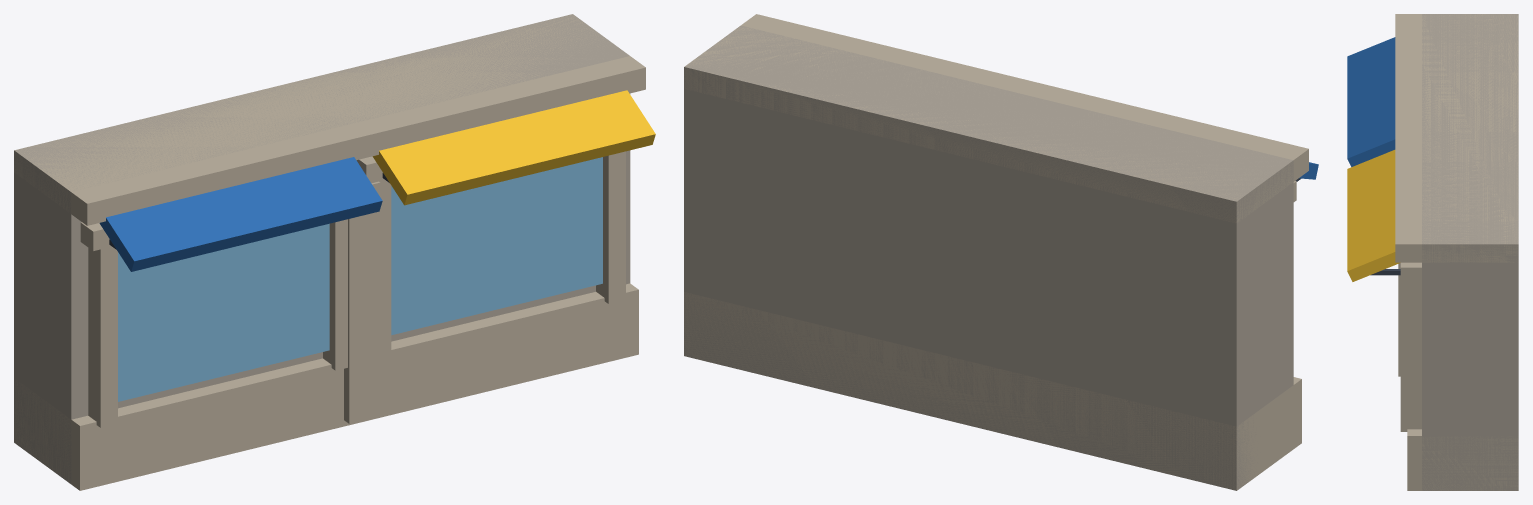
Rendered from cittaTortoraBaseB.glb.
3 views of the same model, side by side, from view 1: azimuth 30°, elevation 25°; view 2: azimuth 150°, elevation 25°; view 3: azimuth 270°, elevation 25° (orthographic). The views are drawn at different scales.
Visible parts, largest first — view 1: cittaTortoraBaseB_stone, cittaTortoraBaseB_glass, cittaTortoraBaseB_cittaTortora, cittaTortoraBaseB_yellow, cittaTortoraBaseB_blue; view 2: cittaTortoraBaseB_cittaTortora, cittaTortoraBaseB_stone; view 3: cittaTortoraBaseB_cittaTortora, cittaTortoraBaseB_stone, cittaTortoraBaseB_yellow, cittaTortoraBaseB_blue.
Part boxes in pixels (x1=…): cittaTortoraBaseB_stone: x1=14, y1=14, x2=645, y2=490; cittaTortoraBaseB_glass: x1=118, y1=157, x2=602, y2=401; cittaTortoraBaseB_cittaTortora: x1=14, y1=14, x2=630, y2=483; cittaTortoraBaseB_yellow: x1=372, y1=90, x2=655, y2=205; cittaTortoraBaseB_blue: x1=99, y1=157, x2=382, y2=271; cittaTortoraBaseB_cittaTortora: x1=684, y1=26, x2=1293, y2=490; cittaTortoraBaseB_stone: x1=684, y1=14, x2=1308, y2=490; cittaTortoraBaseB_cittaTortora: x1=1422, y1=14, x2=1518, y2=490; cittaTortoraBaseB_stone: x1=1395, y1=14, x2=1518, y2=490; cittaTortoraBaseB_yellow: x1=1347, y1=150, x2=1400, y2=281; cittaTortoraBaseB_blue: x1=1347, y1=37, x2=1395, y2=166.
Size of the model in its own units: 9 by 4.5 by 2.84.
